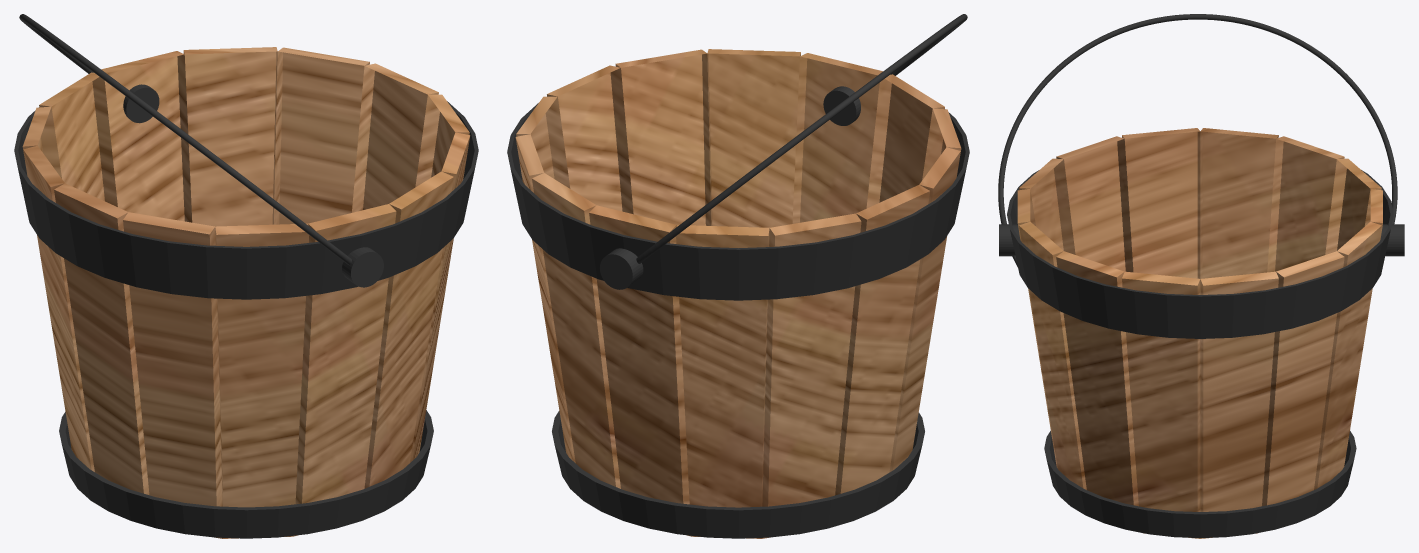
The model's file is bucket.obj.
3 renders of one model, left to right at view 1: azimuth 30°, elevation 25°; view 2: azimuth 150°, elevation 25°; view 3: azimuth 270°, elevation 25°, orthographic. The views are drawn at different scales.
Visible parts, largest first — view 1: Object.1; view 2: Object.1; view 3: Object.1.
Boxes of the visible parts, x1=… form: Object.1: x1=14, y1=14, x2=478, y2=538; Object.1: x1=507, y1=14, x2=969, y2=538; Object.1: x1=998, y1=14, x2=1404, y2=538.
Bounding box in the file's own units: 222 × 250 × 233.
